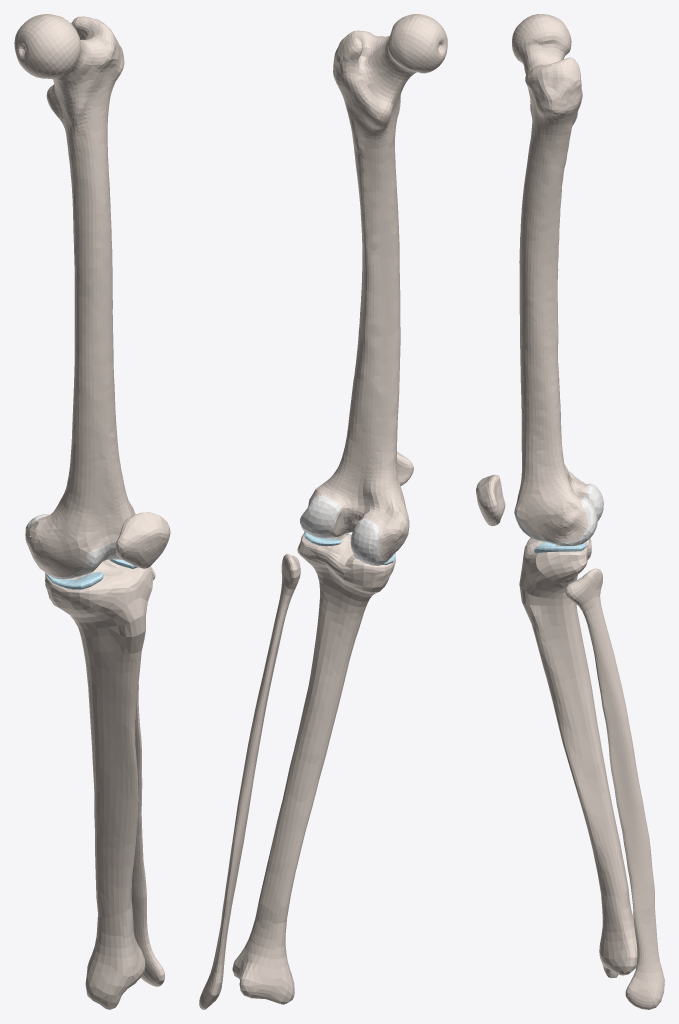
File: VH_M_Knee_L_0.6.glb
3 renders of one model, left to right at view 1: azimuth 30°, elevation 25°; view 2: azimuth 150°, elevation 25°; view 3: azimuth 270°, elevation 25°, orthographic. The views are drawn at different scales.
Parts seen in each view (by area): view 1: VH_M_femur_L, VH_M_tibia_L, VH_M_fibula_L, VH_M_patella_L, VH_M_meniscus_L, VH_M_medial_condyle_of_left_femur_sup; view 2: VH_M_femur_L, VH_M_tibia_L, VH_M_fibula_L, VH_M_lateral_condyle_of_femur_inf_L, VH_M_medial_condyle_of_left_femur_inf; view 3: VH_M_femur_L, VH_M_tibia_L, VH_M_fibula_L, VH_M_patella_L, VH_M_articular_cartilage_of_knee_L.
Boxes of the visible parts, x1,y1,x2,y2 form: VH_M_femur_L: [14, 14, 135, 576]; VH_M_tibia_L: [45, 552, 153, 1009]; VH_M_fibula_L: [131, 568, 164, 986]; VH_M_patella_L: [115, 512, 170, 568]; VH_M_meniscus_L: [47, 547, 137, 589]; VH_M_medial_condyle_of_left_femur_sup: [77, 547, 110, 576]; VH_M_femur_L: [308, 14, 447, 560]; VH_M_tibia_L: [232, 533, 395, 1004]; VH_M_fibula_L: [199, 554, 300, 1009]; VH_M_lateral_condyle_of_femur_inf_L: [300, 496, 340, 536]; VH_M_medial_condyle_of_left_femur_inf: [350, 520, 380, 564]; VH_M_femur_L: [512, 14, 588, 541]; VH_M_tibia_L: [519, 537, 637, 978]; VH_M_fibula_L: [565, 568, 664, 1009]; VH_M_patella_L: [476, 474, 505, 525]; VH_M_articular_cartilage_of_knee_L: [515, 483, 590, 545].
Size of the model in its own units: 0.1734 by 0.8875 by 0.1646.
